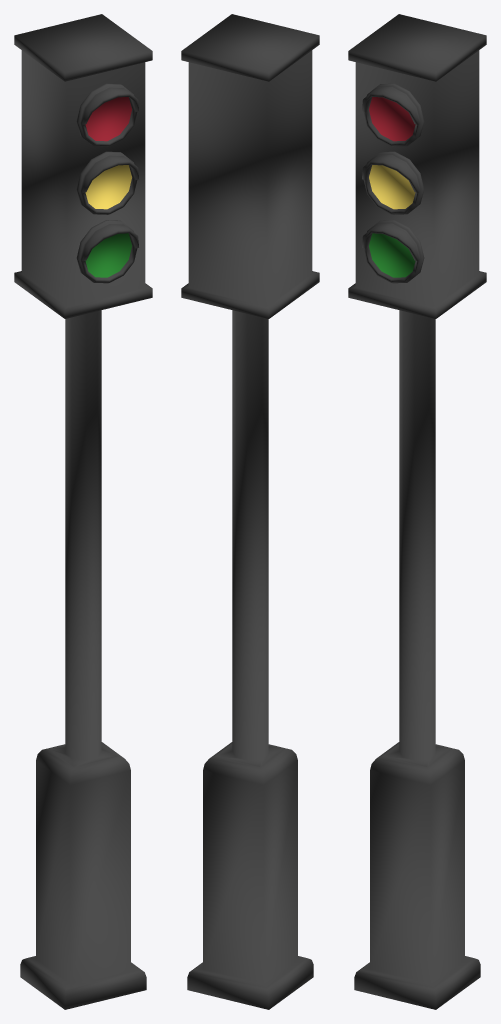
File: SM_Prop_Traffic.fbx
3 views of the same model, side by side, from view 1: azimuth 30°, elevation 25°; view 2: azimuth 150°, elevation 25°; view 3: azimuth 330°, elevation 25° (orthographic).
Parts seen in each view (by area): view 1: SM_Prop_Traffic; view 2: SM_Prop_Traffic; view 3: SM_Prop_Traffic.
Part boxes in pixels (left/top/right/bottom): SM_Prop_Traffic: left=14, top=14, right=152, bottom=1009; SM_Prop_Traffic: left=181, top=14, right=319, bottom=1009; SM_Prop_Traffic: left=348, top=14, right=486, bottom=1009.
Size of the model in its own units: 0.6742 by 6.9 by 0.7979.
